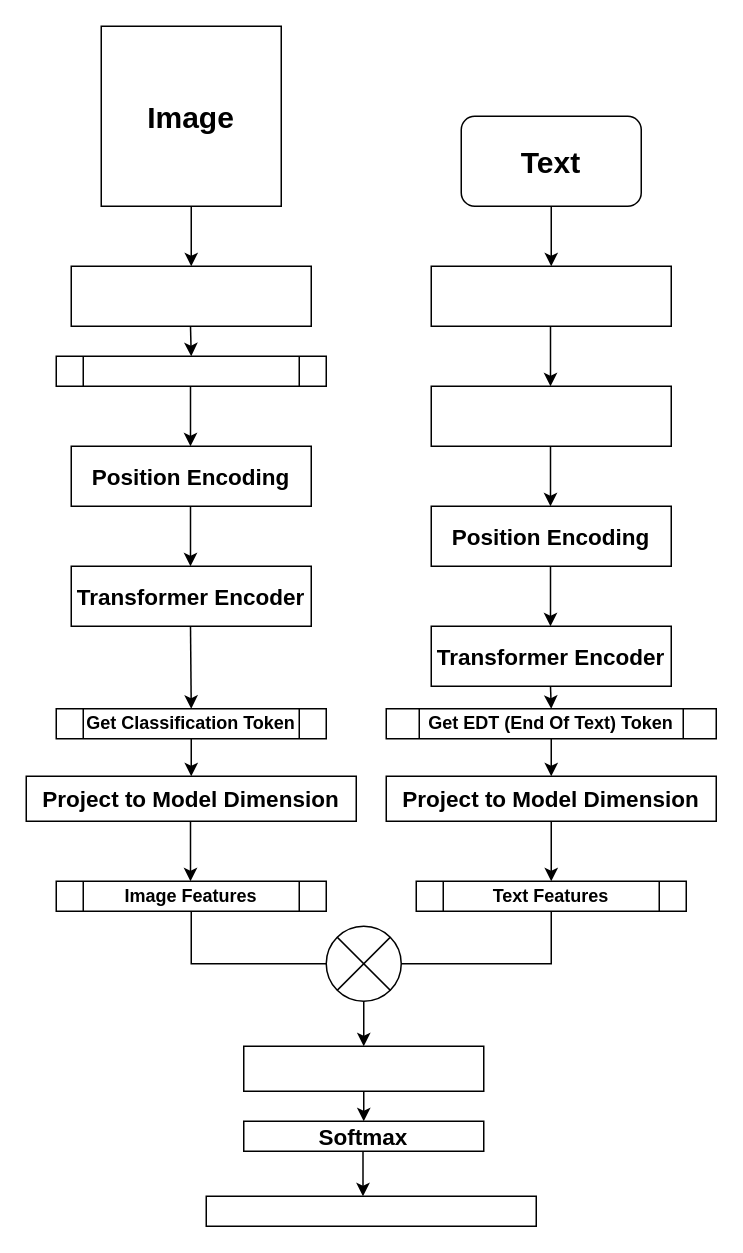
Some shapes in this 743 by 1253 pixel diagram are drawn without their labels. Here are the shapes that lost their labels. From the top down, the box of each, then its label:
(70, 265, 311, 326): Patches Convolution
(430, 265, 671, 326): Tokenization
(55, 355, 326, 386): Add Classfication Token
(430, 385, 671, 446): Embedding
(242, 1045, 484, 1091): Similarity text - image
(205, 1195, 536, 1226): Output (Text or Image)
